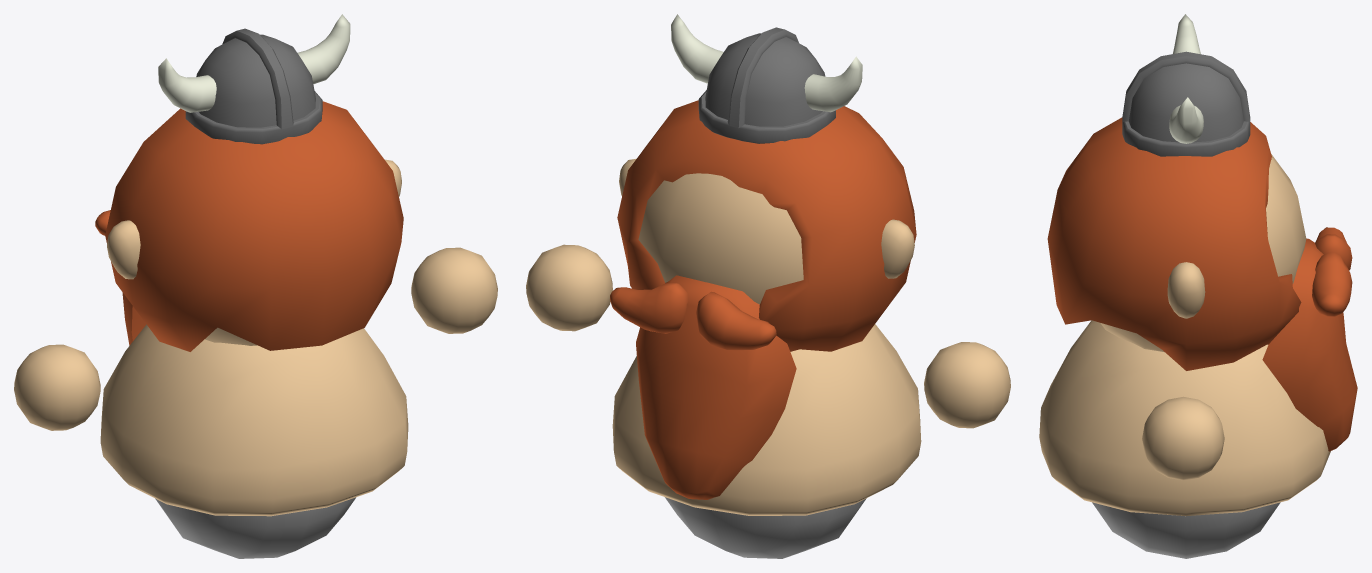
File: Simon_Mesh.fbx
3 views of the same model, side by side, from view 1: azimuth 30°, elevation 25°; view 2: azimuth 150°, elevation 25°; view 3: azimuth 270°, elevation 25° (orthographic). The views are drawn at different scales.
Parts seen in each view (by area): view 1: Head1_DUP, Body, Helmet, RollerBall, Hand_R, Hand_L, Horn_R, Horn_L, Ear_R, Beard; view 2: Head1_DUP, Body, Beard, Head, Helmet, RollerBall, Hand_R, Hand_L, Moustache_R, Moustache_L, Horn_R, Horn_L (+1 smaller); view 3: Head1_DUP, Body, Helmet, Beard, RollerBall, Hand_L, Head, Moustache_L, Ear_L, Horn_L, Moustache_R, Horn_R.
Part boxes in pixels (box(x1,y1,x2,y2)): Head1_DUP: box(105, 101, 403, 351); Body: box(100, 324, 408, 516); Helmet: box(185, 28, 322, 144); RollerBall: box(155, 497, 355, 558); Hand_R: box(14, 344, 100, 430); Hand_L: box(411, 247, 497, 333); Horn_R: box(158, 58, 216, 112); Horn_L: box(297, 14, 350, 84); Ear_R: box(107, 220, 140, 279); Beard: box(122, 292, 146, 345); Head1_DUP: box(617, 100, 916, 351); Body: box(612, 324, 921, 515); Beard: box(636, 275, 796, 499); Head: box(638, 173, 803, 304); Helmet: box(698, 27, 835, 143); RollerBall: box(665, 497, 866, 558); Hand_R: box(924, 342, 1010, 428); Hand_L: box(526, 244, 612, 331); Moustache_R: box(696, 291, 776, 350); Moustache_L: box(610, 283, 688, 333); Horn_R: box(804, 56, 862, 112); Horn_L: box(671, 14, 723, 83); Head1_DUP: box(1047, 117, 1301, 370); Body: box(1039, 320, 1330, 516); Helmet: box(1122, 51, 1250, 156); Beard: box(1262, 238, 1357, 451); RollerBall: box(1092, 502, 1280, 558); Hand_L: box(1142, 396, 1224, 480); Head: box(1100, 154, 1306, 352); Moustache_L: box(1312, 252, 1352, 316); Ear_L: box(1167, 262, 1205, 318); Horn_L: box(1169, 97, 1203, 143); Moustache_R: box(1315, 227, 1352, 270); Horn_R: box(1173, 14, 1200, 54).
Size of the model in its own units: 175 by 182 by 107.
